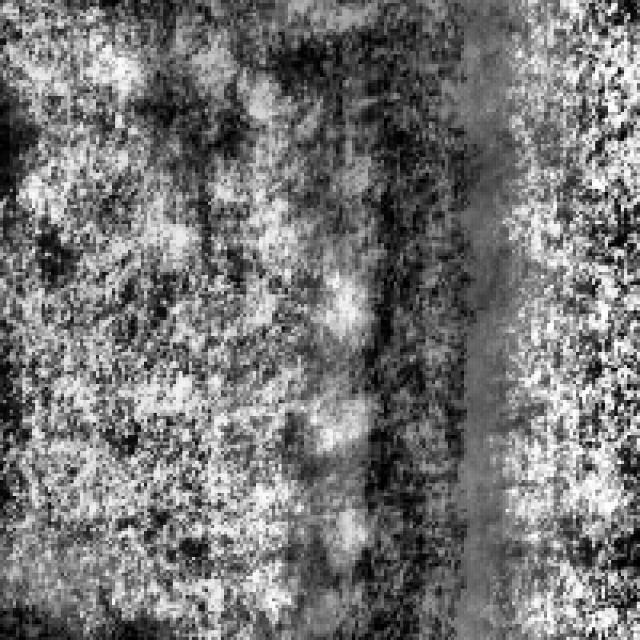Scratches: (284, 0, 499, 630)
